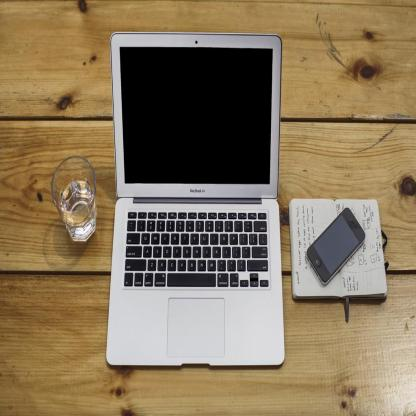board: (108, 33, 284, 364)
